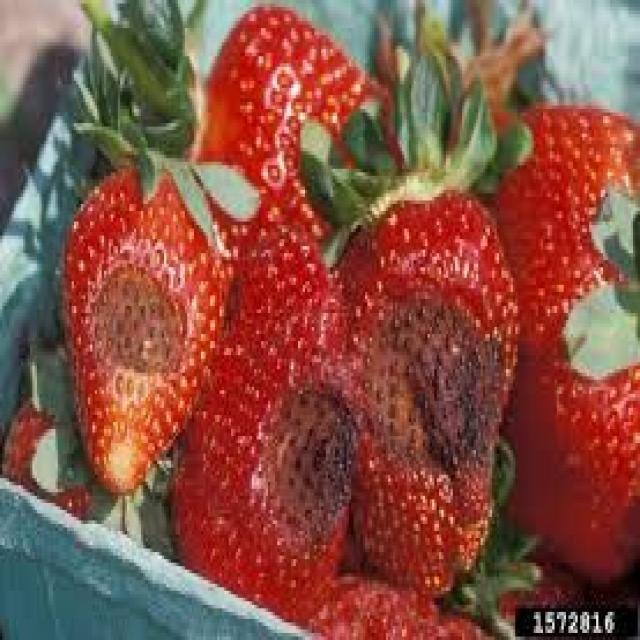Fruta sana: (485, 63, 640, 584), (137, 10, 386, 228)
Mancha negra Antracnosis: (342, 163, 509, 600), (214, 222, 360, 610), (66, 168, 222, 498)
